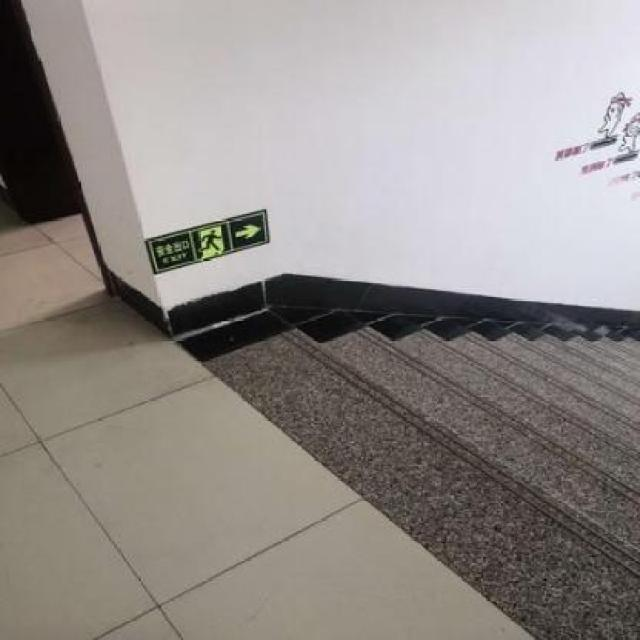exit_sign: (136, 211, 282, 277)
